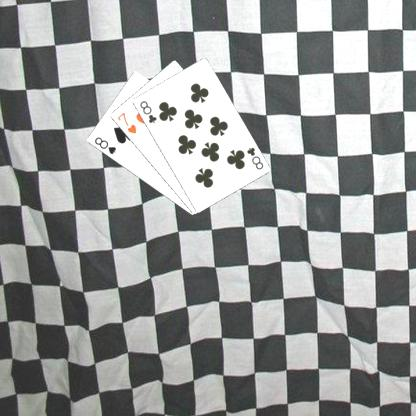7H: (114, 110, 138, 135)
8C: (137, 98, 158, 124), (244, 144, 264, 170)
8S: (92, 134, 118, 156)
